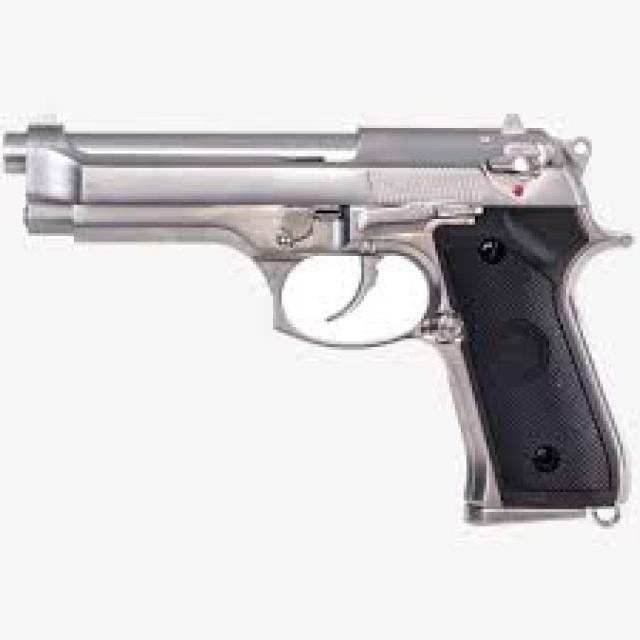pistol: (1, 96, 638, 539)
